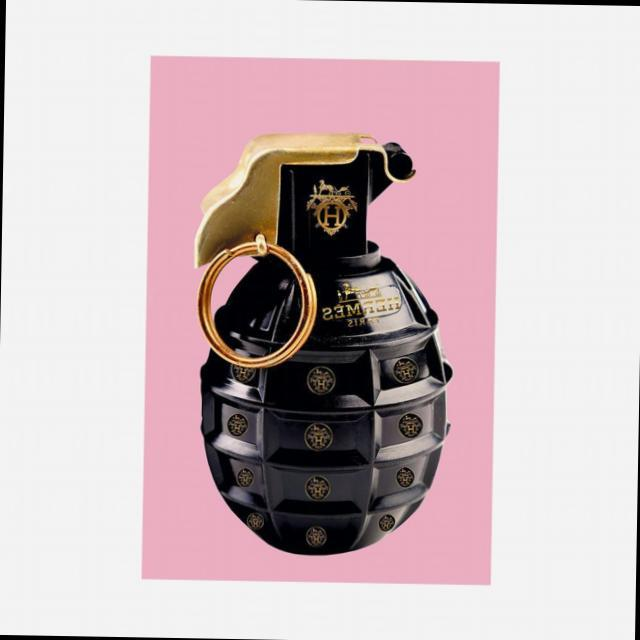grenade: (192, 141, 454, 564)
